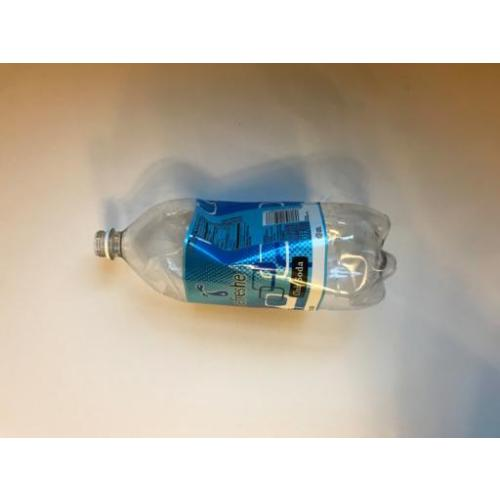plastic: (95, 199, 400, 312)
